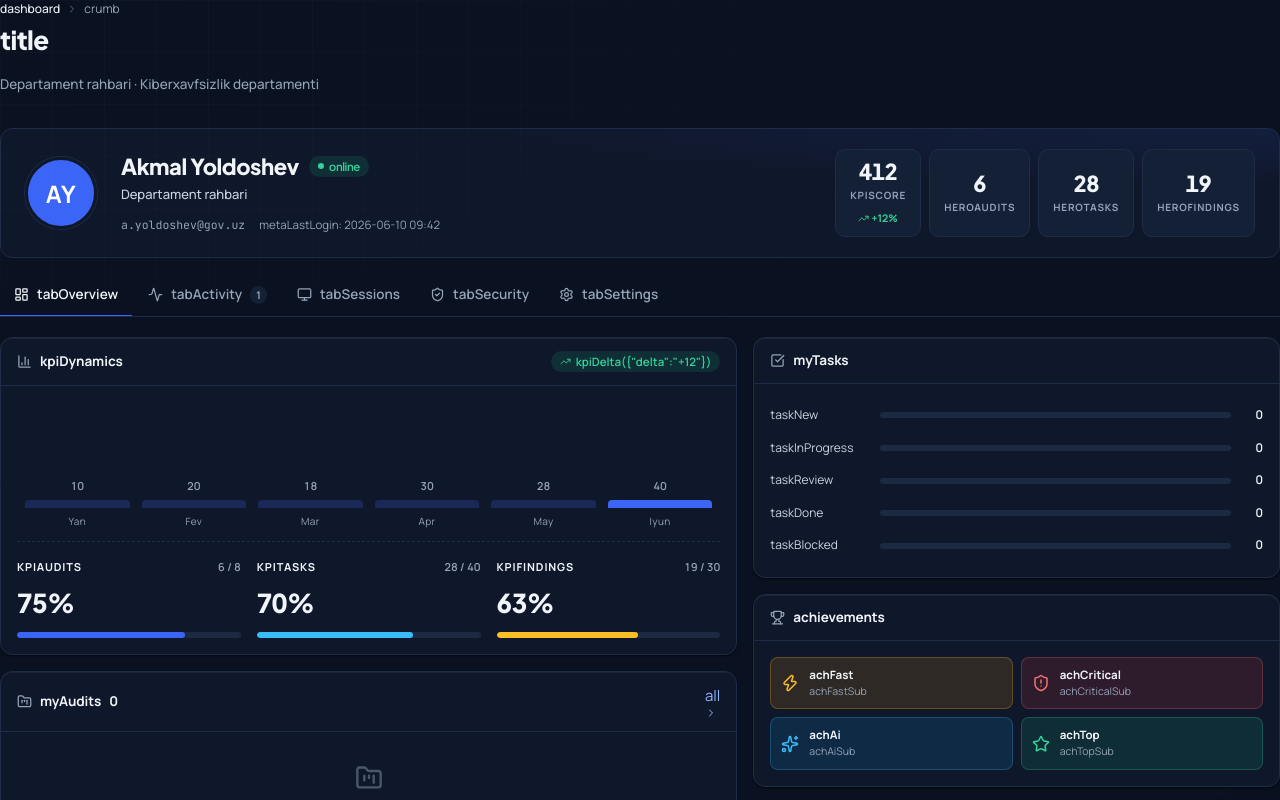
Test: ProfileScreen › switches to the activity tab and shows the log action
Click the tab "tabActivity 1" at (208, 296), box [134, 274, 281, 317]
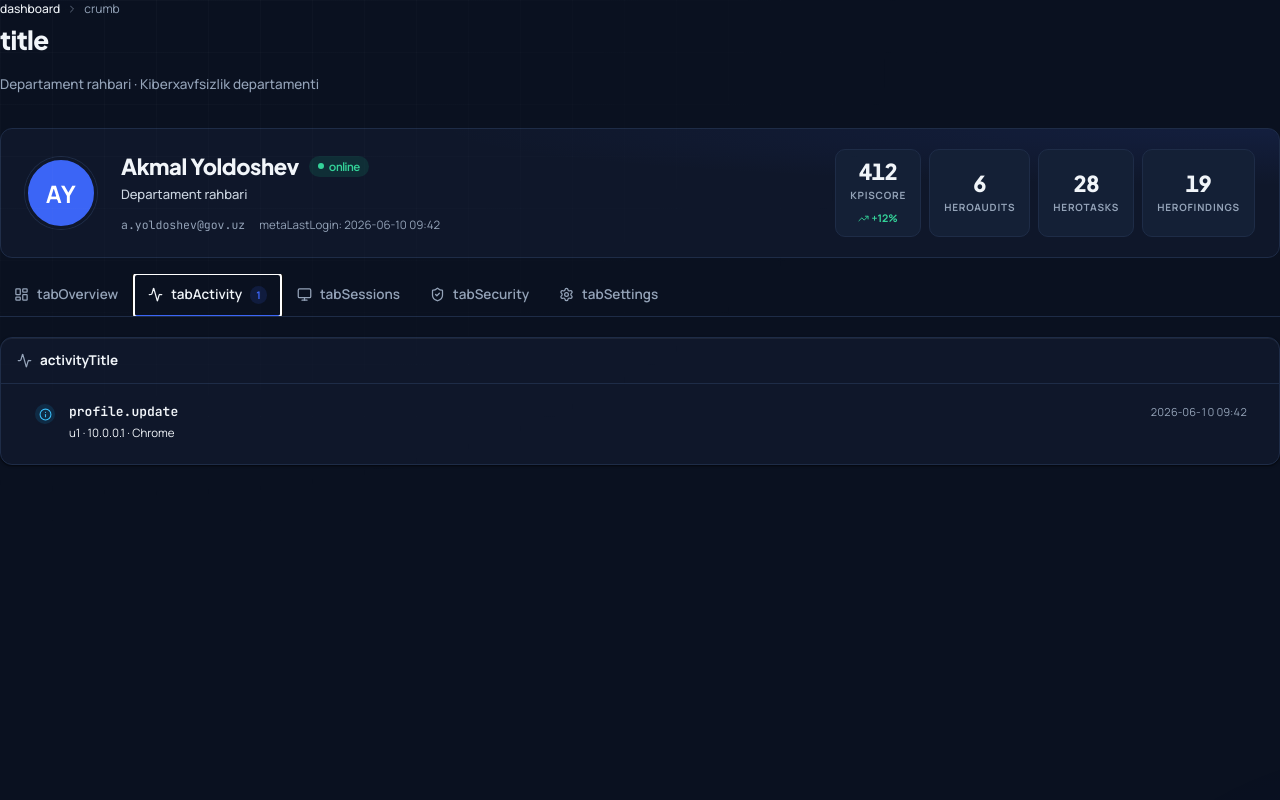
expect the text "profile.update" is shown: met, box [69, 402, 178, 422]
